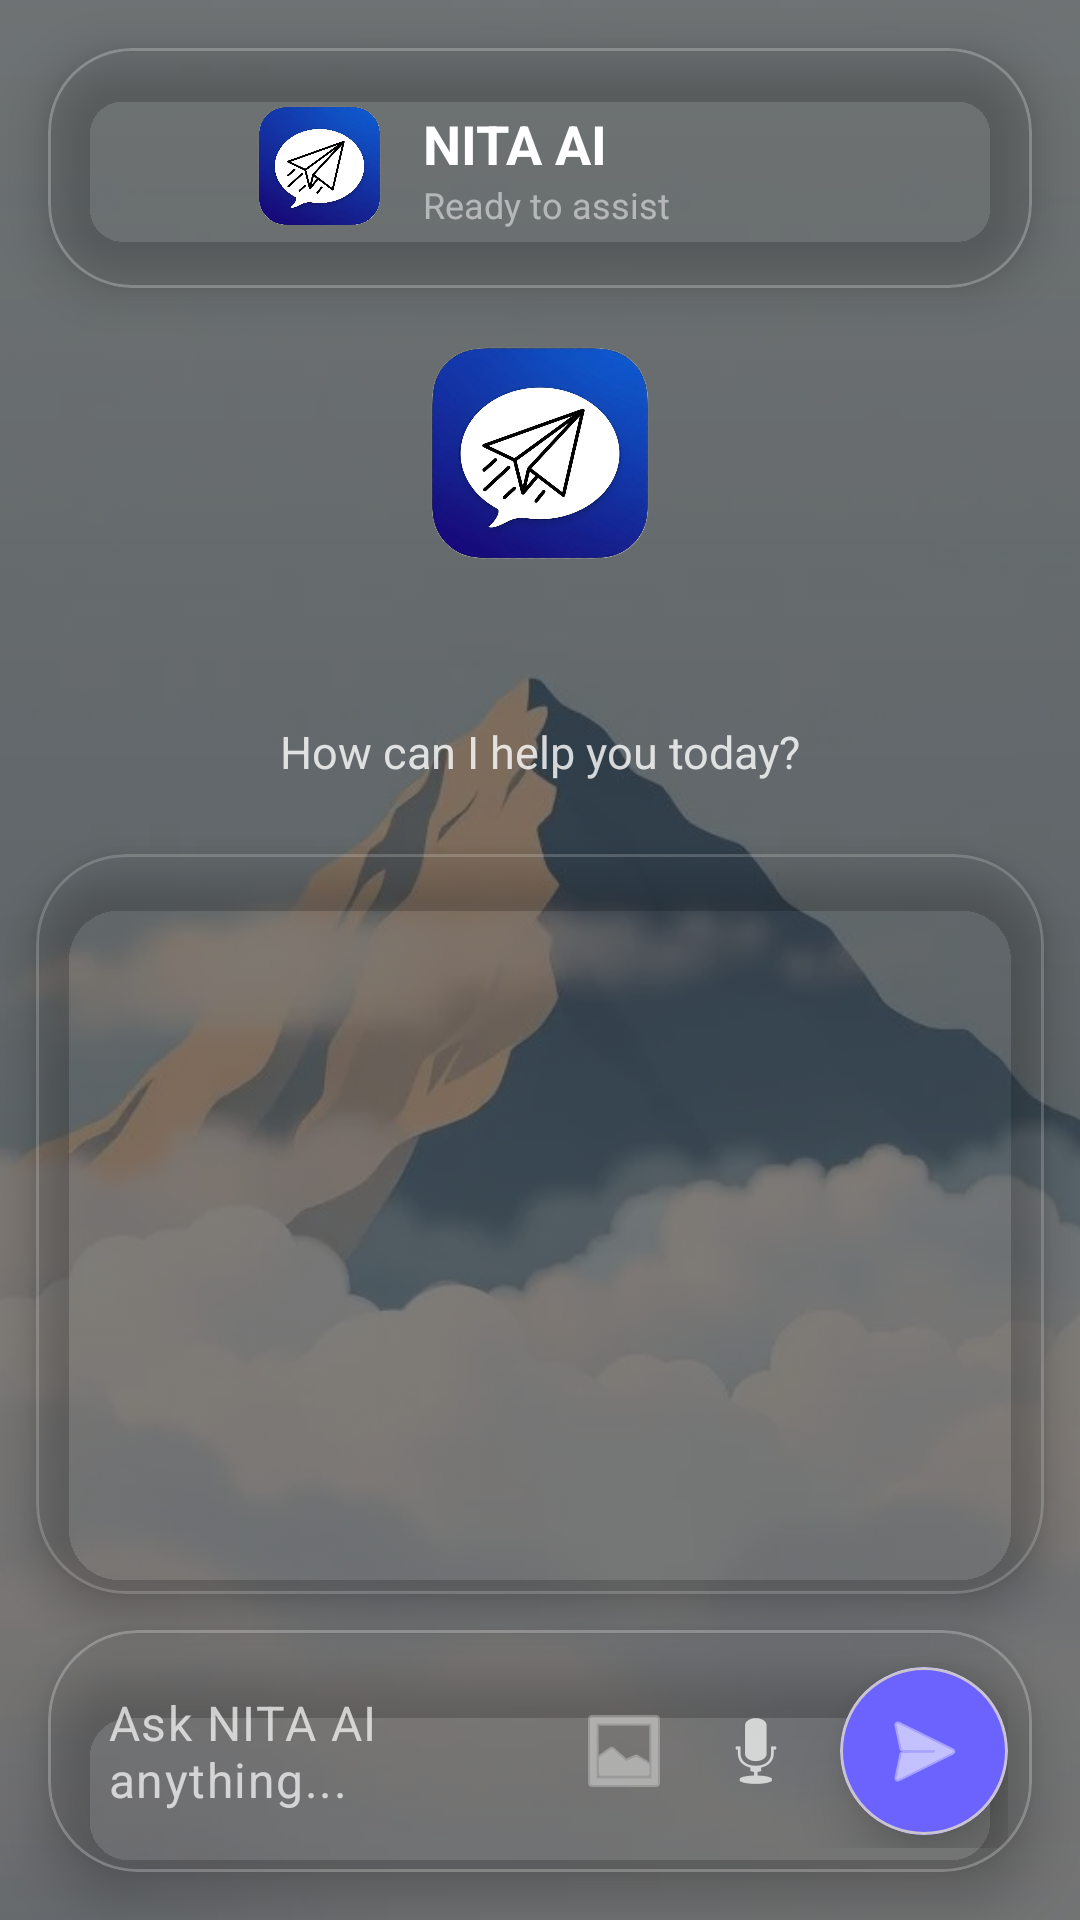

Icons on this 1080px×1920px Android screen, each with the point to tap as (x=x, y=y):
gallery: (x=624, y=1751)
Send: (x=924, y=1751)
speak now: (x=769, y=1742)
